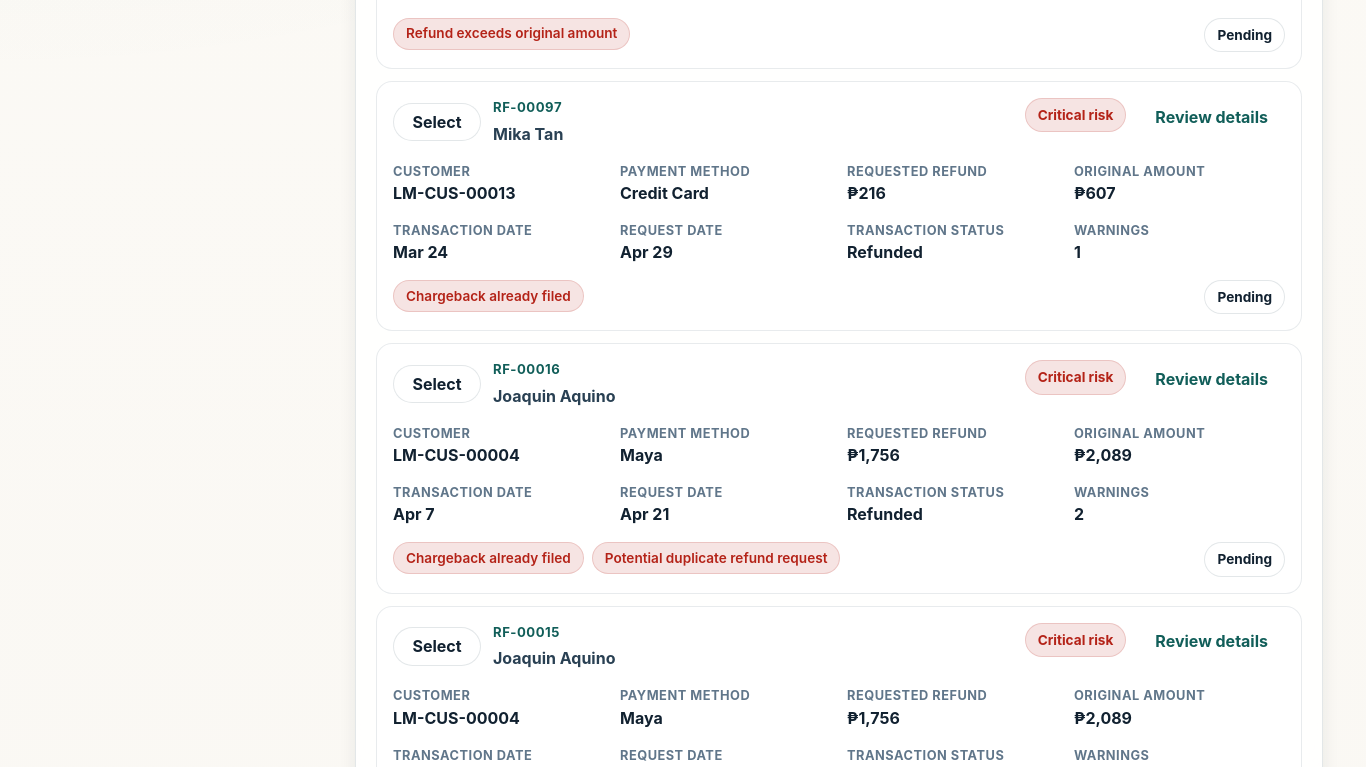
Test: AppRouter › allows flagging a blocked batch from the preflight review
(page scrolled)
What coordinates should you click on to do the following:
click the button with aria-label "Add RF-00016 to batch selection"
I would click on:
 (437, 384)
Its box is 393,365 -> 481,403.
(page scrolled)
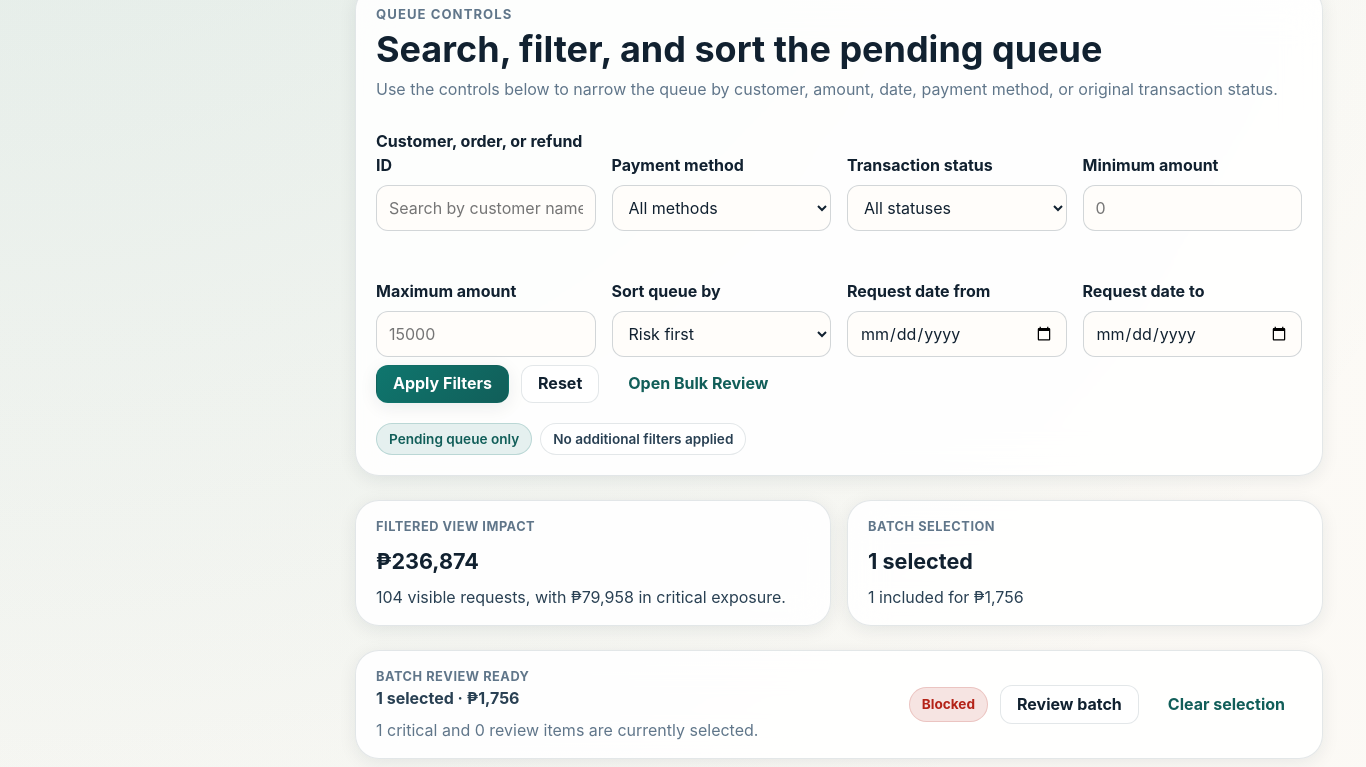
What coordinates should you click on to do the following:
click the button "Open Bulk Review"
I would click on:
 (698, 384)
Its box is 611,365 -> 785,403.
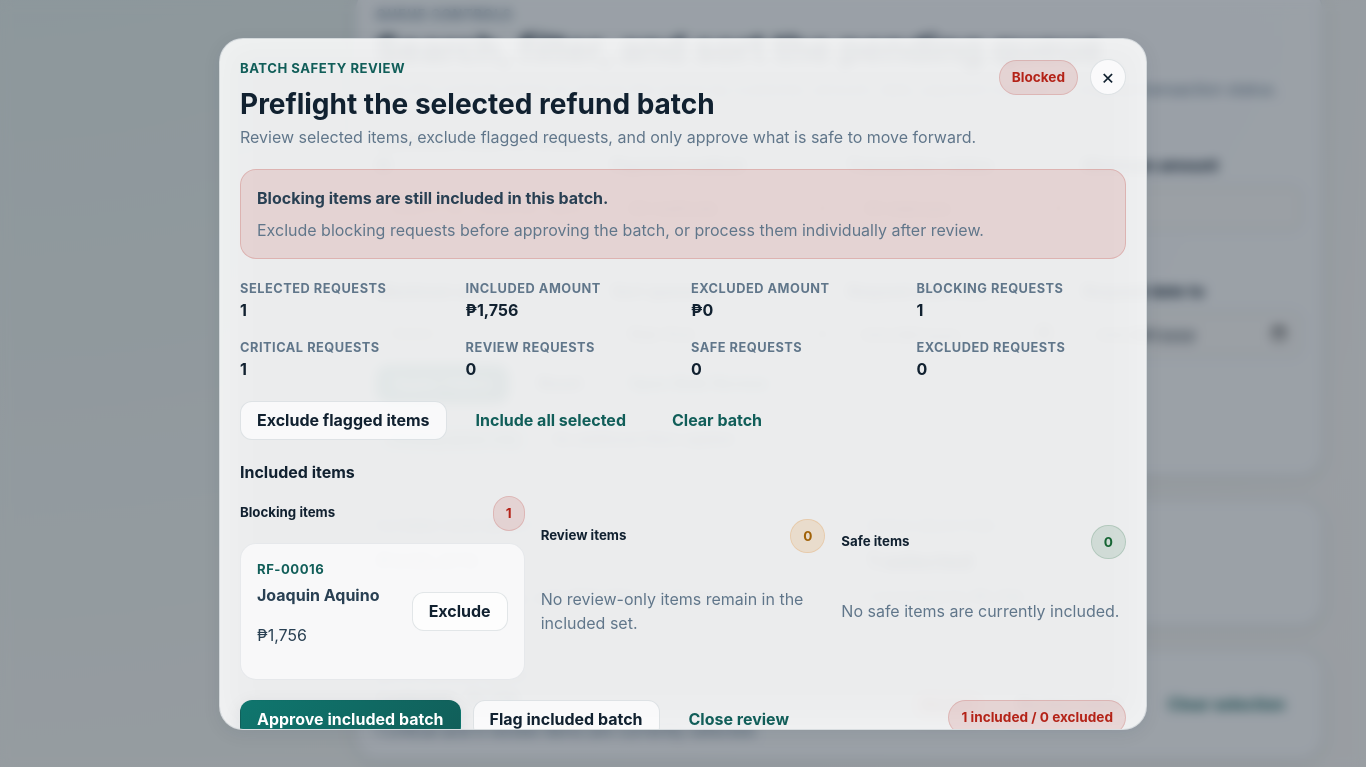
What coordinates should you click on to do the following:
click the button "Flag included batch"
I would click on:
 (566, 720)
Its box is 472,700 -> 660,739.
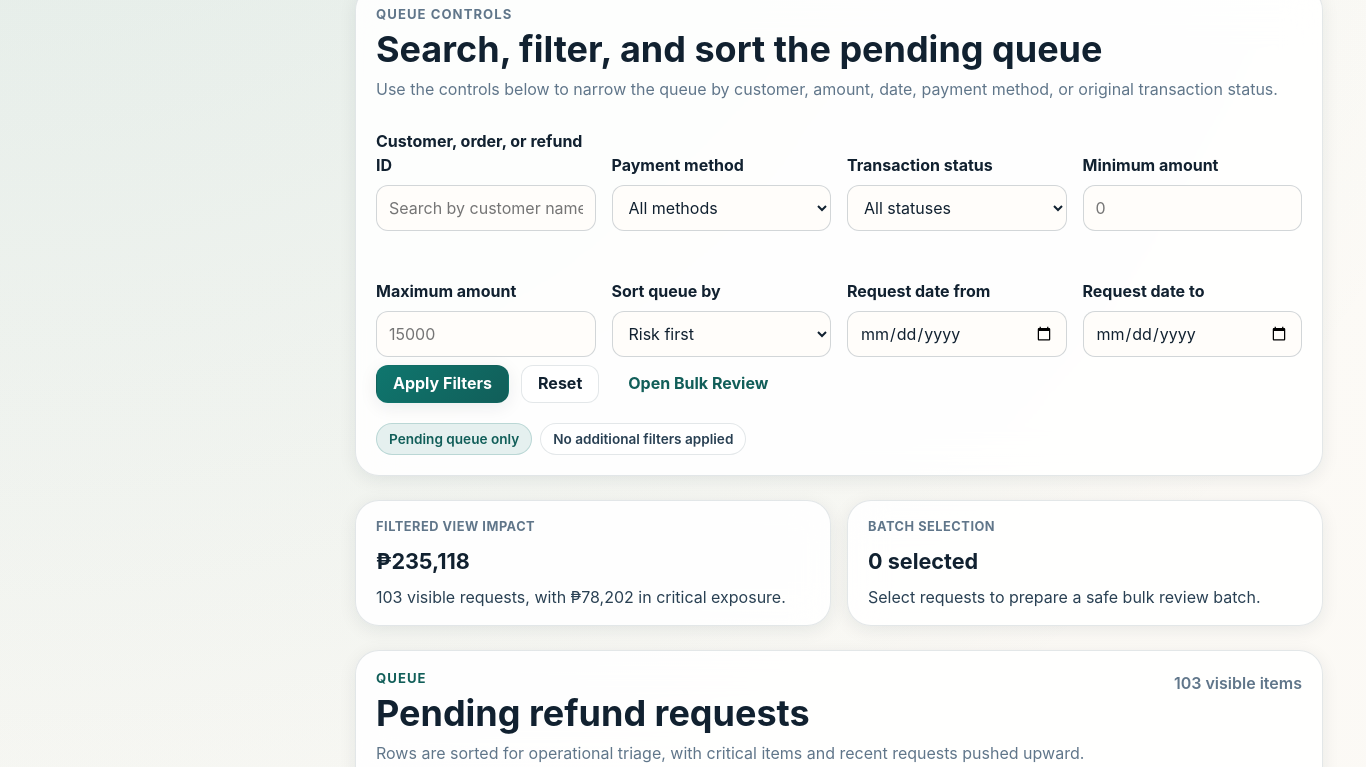
Expected: the heading "Preflight the selected refund batch" is gone
